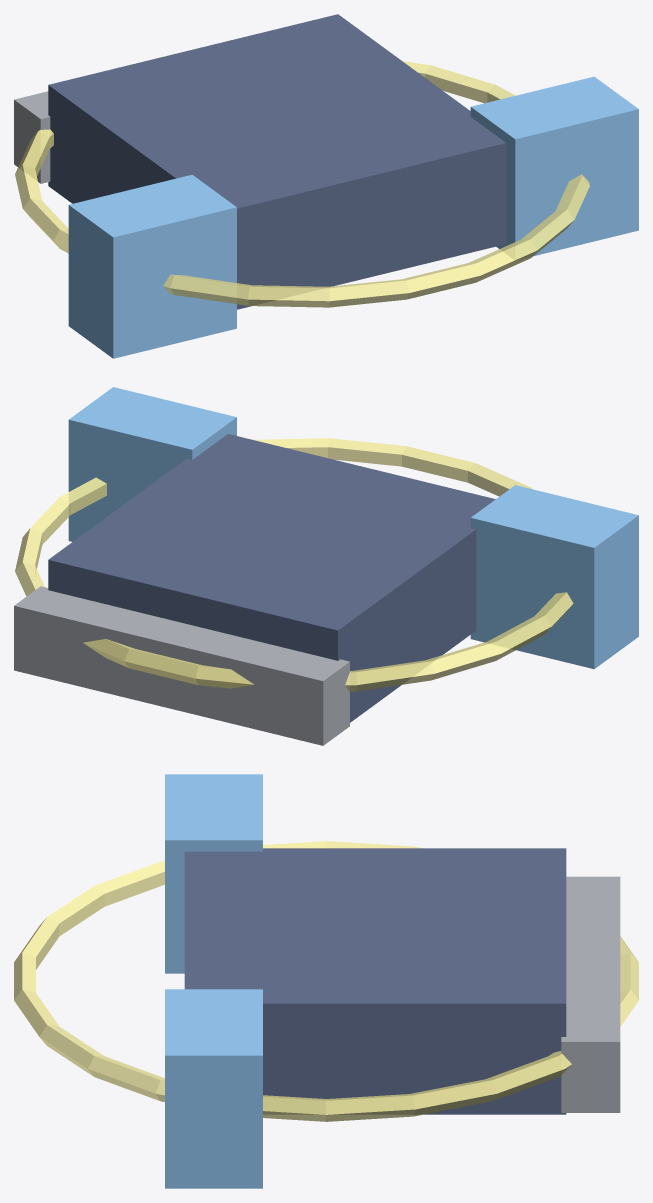
Rendered from 04_magic_armor_upgrade.glb.
3 renders of one model, top to bottom at view 1: azimuth 30°, elevation 25°; view 2: azimuth 150°, elevation 25°; view 3: azimuth 270°, elevation 25°, orthographic. The views are drawn at different scales.
Parts seen in each view (by area): view 1: chest_plate, pauldron_l, pauldron_r, warding_aura, waist_guard; view 2: chest_plate, waist_guard, pauldron_l, warding_aura, pauldron_r; view 3: chest_plate, pauldron_r, warding_aura, waist_guard, pauldron_l.
Boxes of the visible parts, x1,y1,x2,y2 form: chest_plate: (48,14,506,309); pauldron_l: (68,174,236,358); pauldron_r: (470,76,638,259); warding_aura: (15,61,589,307); waist_guard: (14,91,50,183); chest_plate: (48,434,495,722); waist_guard: (14,586,349,745); pauldron_l: (470,485,638,669); warding_aura: (15,438,573,691); pauldron_r: (68,387,236,541); chest_plate: (184,848,566,1114); pauldron_r: (165,989,262,1188); warding_aura: (14,841,638,1121); waist_guard: (561,876,620,1112); pauldron_l: (165,774,262,973).
Size of the model in its own units: 1.36 by 0.38 by 1.28.
